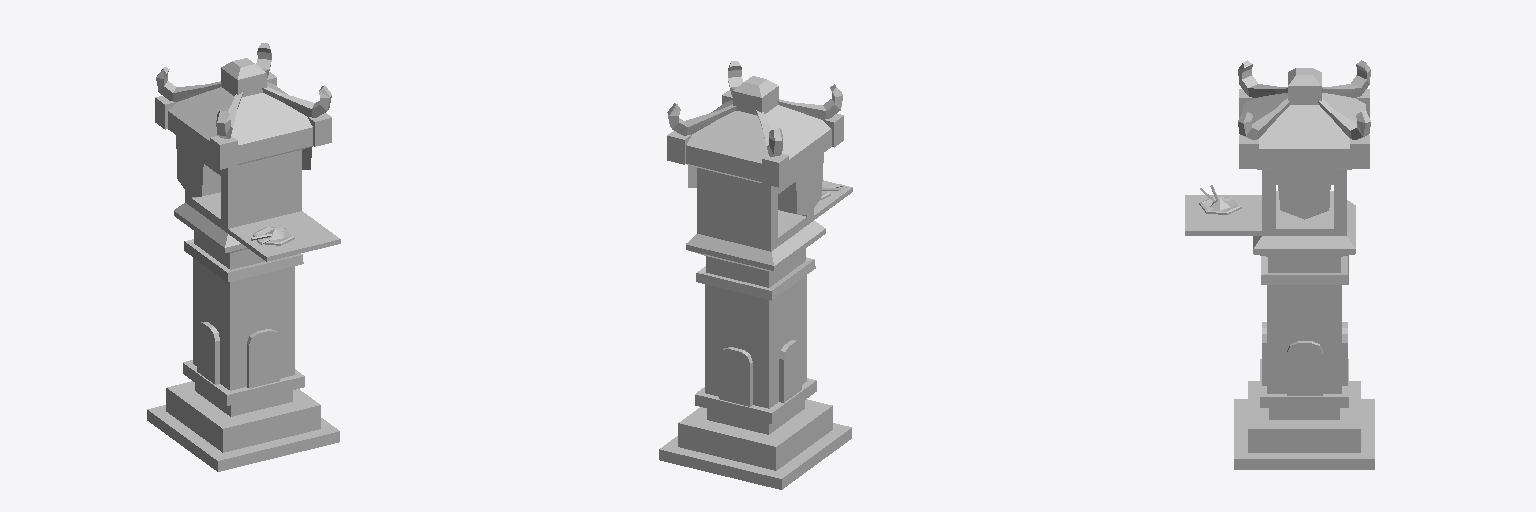
The model's file is TD_TowerOfOffering_mesh.obj.
3 views of the same model, side by side, from view 1: azimuth 30°, elevation 25°; view 2: azimuth 150°, elevation 25°; view 3: azimuth 270°, elevation 25° (orthographic).
Parts seen in each view (by area): view 1: g TD_TowerOfOffering_mesh:TD_TowerOfOfferings_mesh_TD_TowerOfOff, g TD_TowerOfOffering_mesh:TD_Towerflag02_mesh_TD_TowerOfOffering, g TD_TowerOfOffering_mesh:pCone2_TD_TowerOfOffering_mesh:pCone2; view 2: g TD_TowerOfOffering_mesh:TD_TowerOfOfferings_mesh_TD_TowerOfOff, g TD_TowerOfOffering_mesh:TD_Towerflag02_mesh_TD_TowerOfOffering; view 3: g TD_TowerOfOffering_mesh:TD_TowerOfOfferings_mesh_TD_TowerOfOff, g TD_TowerOfOffering_mesh:TD_Towerflag01_mesh_TD_TowerOfOffering, g TD_TowerOfOffering_mesh:pCone2_TD_TowerOfOffering_mesh:pCone2.
Part boxes in pixels (bbox=[...]): g TD_TowerOfOffering_mesh:TD_TowerOfOfferings_mesh_TD_TowerOfOff: bbox=[147, 43, 340, 471]; g TD_TowerOfOffering_mesh:TD_Towerflag02_mesh_TD_TowerOfOffering: bbox=[176, 127, 204, 196]; g TD_TowerOfOffering_mesh:pCone2_TD_TowerOfOffering_mesh:pCone2: bbox=[251, 227, 294, 245]; g TD_TowerOfOffering_mesh:TD_TowerOfOfferings_mesh_TD_TowerOfOff: bbox=[659, 61, 852, 489]; g TD_TowerOfOffering_mesh:TD_Towerflag02_mesh_TD_TowerOfOffering: bbox=[796, 145, 823, 214]; g TD_TowerOfOffering_mesh:TD_TowerOfOfferings_mesh_TD_TowerOfOff: bbox=[1185, 60, 1374, 469]; g TD_TowerOfOffering_mesh:TD_Towerflag01_mesh_TD_TowerOfOffering: bbox=[1275, 160, 1331, 219]; g TD_TowerOfOffering_mesh:pCone2_TD_TowerOfOffering_mesh:pCone2: bbox=[1199, 185, 1241, 214].
Bounding box in the file's own units: 0.9878 × 2.84 × 1.33.